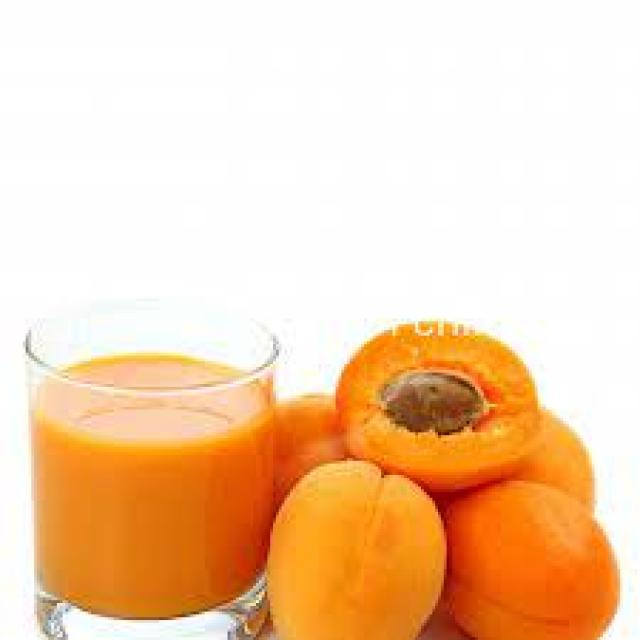Cekirdek: (384, 370, 484, 432)
Kayisi: (270, 461, 444, 637)
